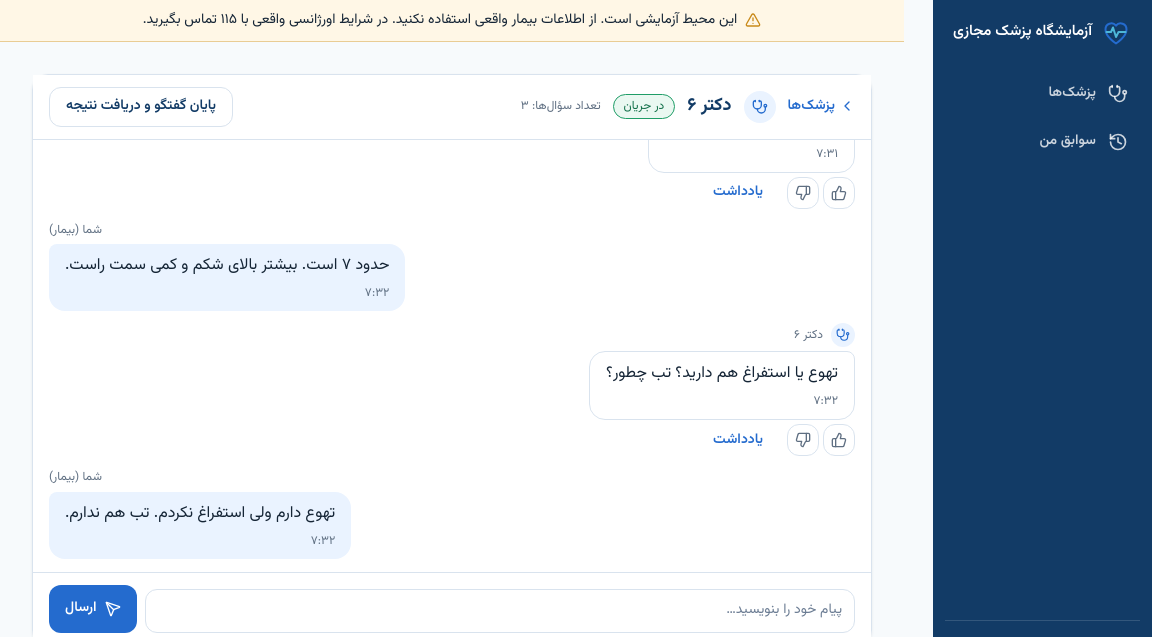
Test: finish › asks for confirmation and then completes the session
(page scrolled)
Check: the text "تعداد سؤال‌ها: ۳" is shown, box [521,97,601,116]
Step 1. Click the button "پایان گفتگو و دریافت نتیجه" → (141, 106), box [49,86,233,126]
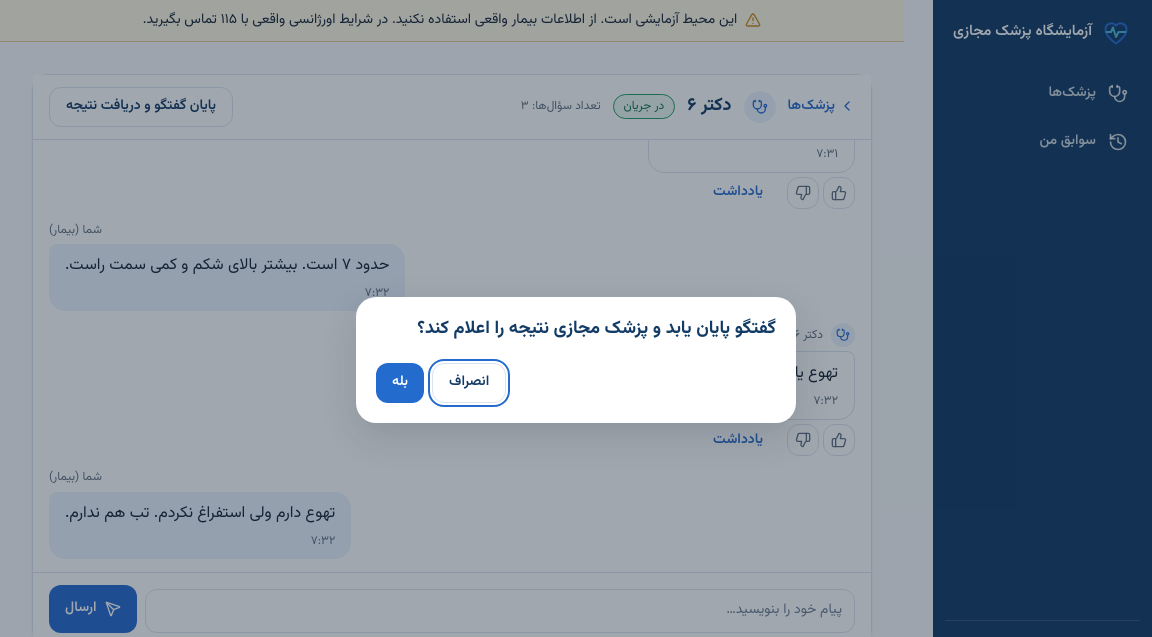
Check: the dialog with test id "confirm-dialog" shows "گفتگو پایان یابد و پزشک مجازی نتیجه را اعلام کند؟", box [417,315,776,343]
Step 2. Click the button "انصراف" → (469, 383), box [432,363,506,403]
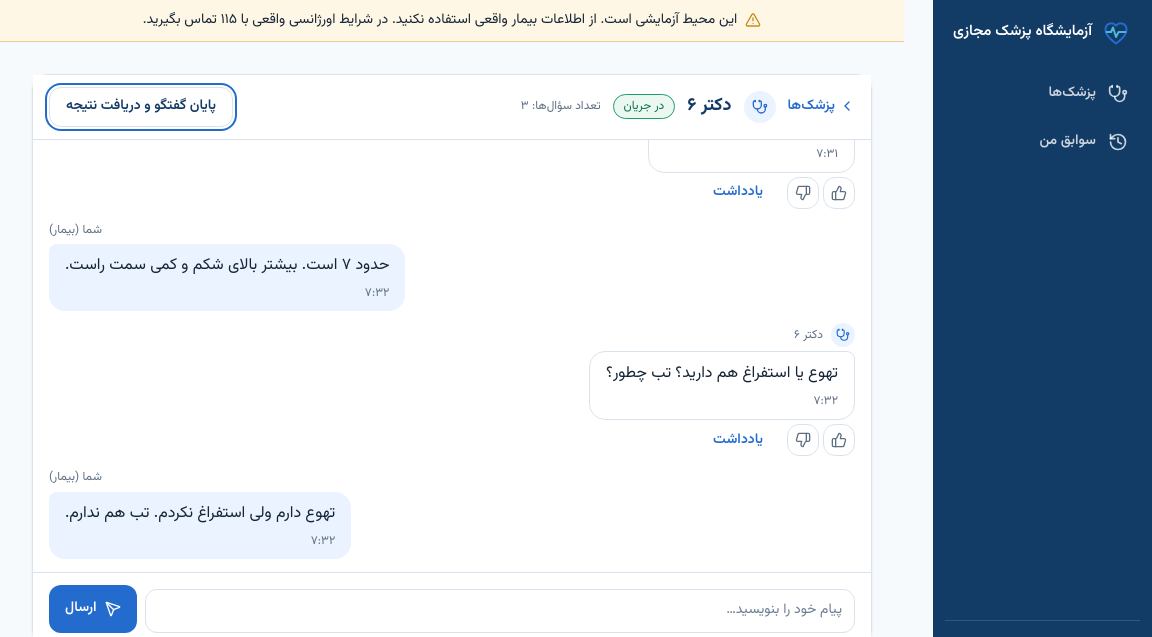
Check: the dialog with test id "confirm-dialog" is gone
Step 3. Click the button "پایان گفتگو و دریافت نتیجه" → (141, 106), box [49,86,233,126]
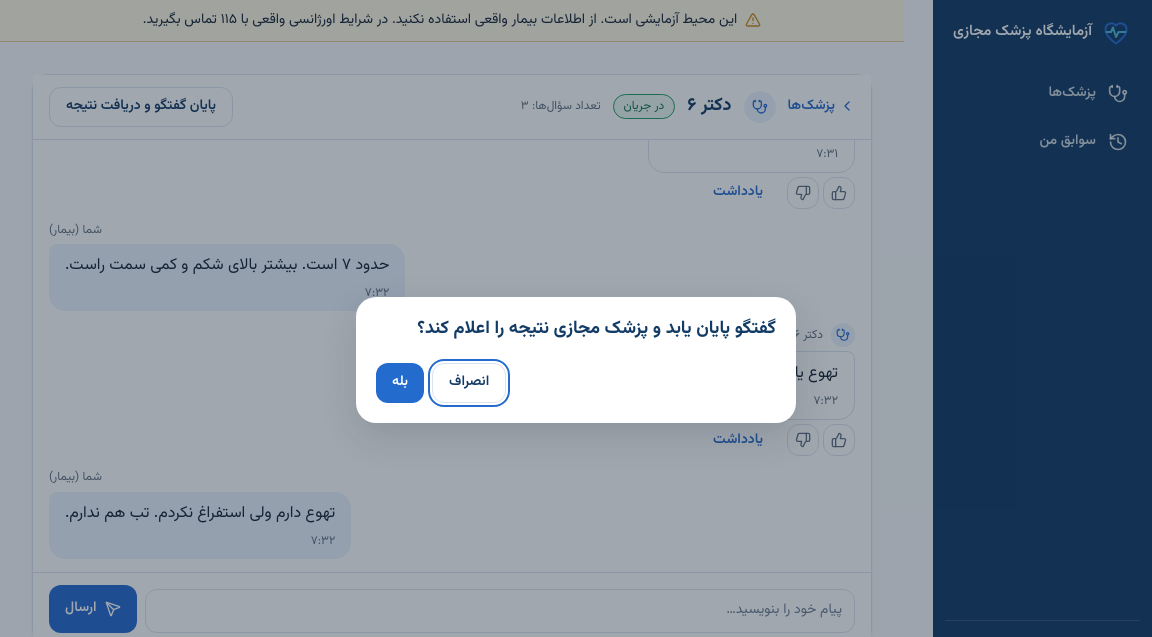
Step 4. Click the button "بله" → (400, 383), box [376,363,424,403]
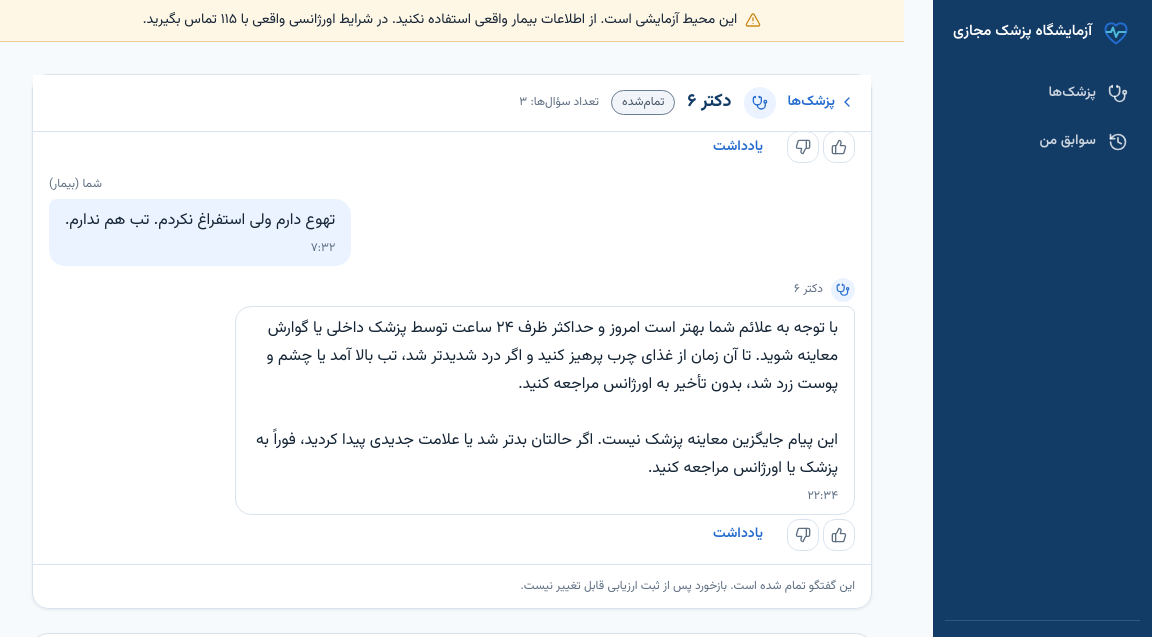
Check: the field labelled "پیام خود را بنویسید…" is not shown
Check: the text "این گفتگو تمام شده است. بازخورد پس از ثبت ارزیابی قابل تغییر نیست." is shown, box [33,564,871,608]
